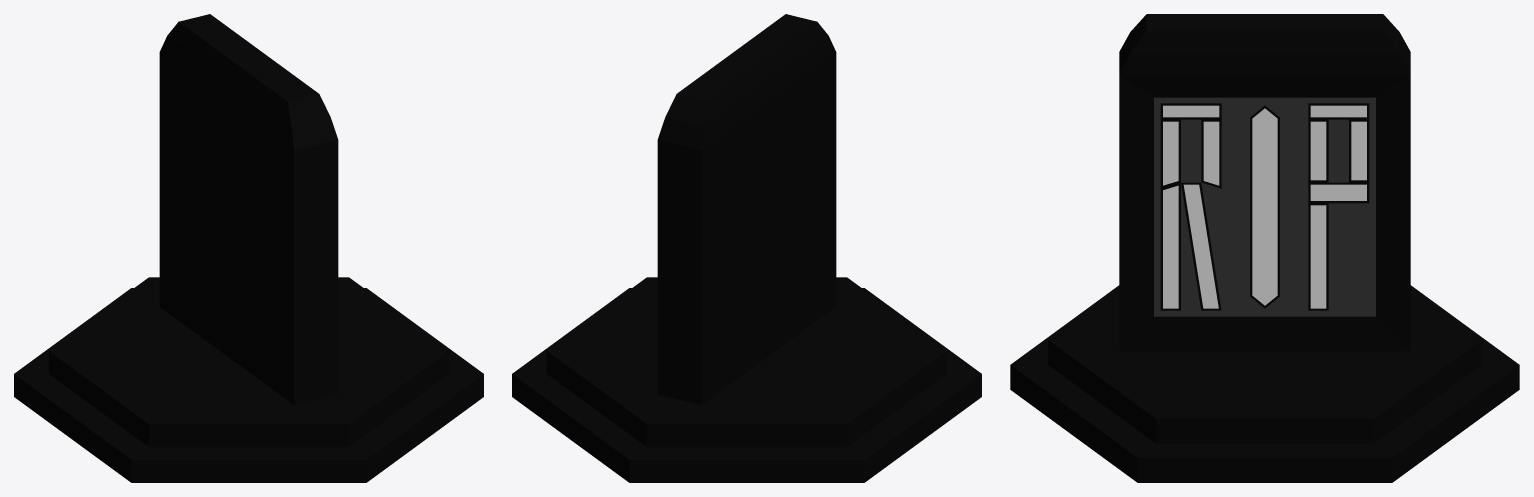
The model's file is grave_spawn.glb.
The picture shows the model from 3 angles, left to right: view 1: azimuth 30°, elevation 25°; view 2: azimuth 150°, elevation 25°; view 3: azimuth 270°, elevation 25°; orthographic projection. The views are drawn at different scales.
Visible parts, largest first — view 1: Grave; view 2: Grave; view 3: Grave.
Part boxes in pixels (left/top/right/bottom): Grave: left=14, top=14, right=483, bottom=482; Grave: left=512, top=14, right=981, bottom=482; Grave: left=1010, top=14, right=1519, bottom=482.
Size of the model in its own units: 1.59 by 1.46 by 1.84.
Materials: 1 (1 with a texture image).
